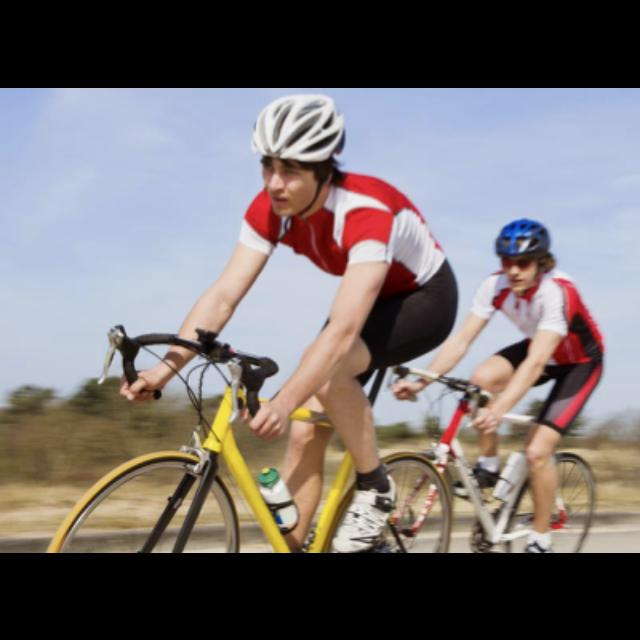With Helmet: (245, 94, 352, 216), (493, 216, 551, 294)
